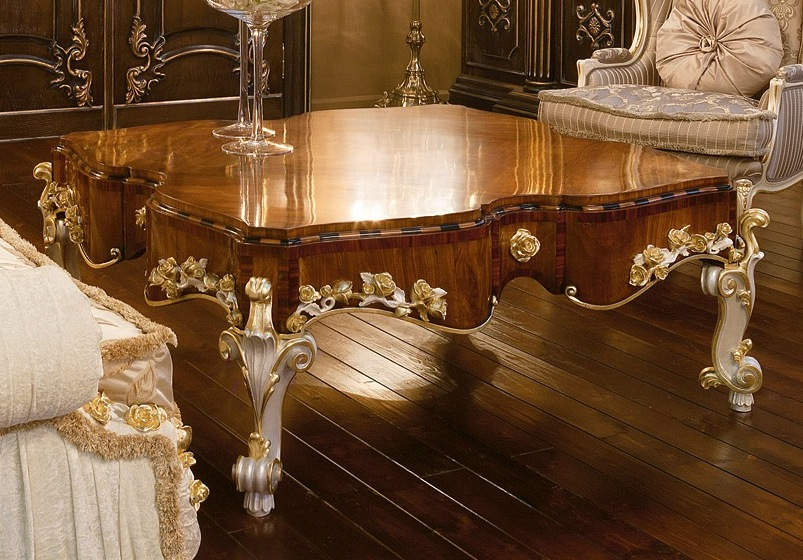Carving Table: (52, 100, 768, 477)
